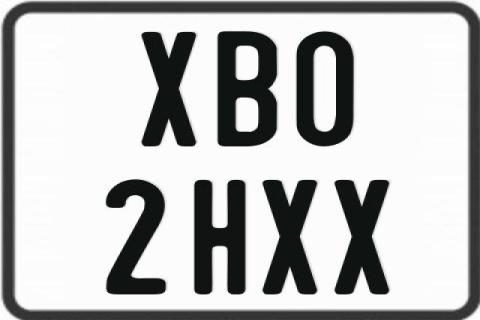0: (106, 179, 167, 297), (295, 31, 353, 146)
B: (218, 31, 281, 148)
H: (194, 179, 246, 299)
X: (334, 179, 389, 299), (263, 179, 319, 295), (139, 30, 194, 144)
